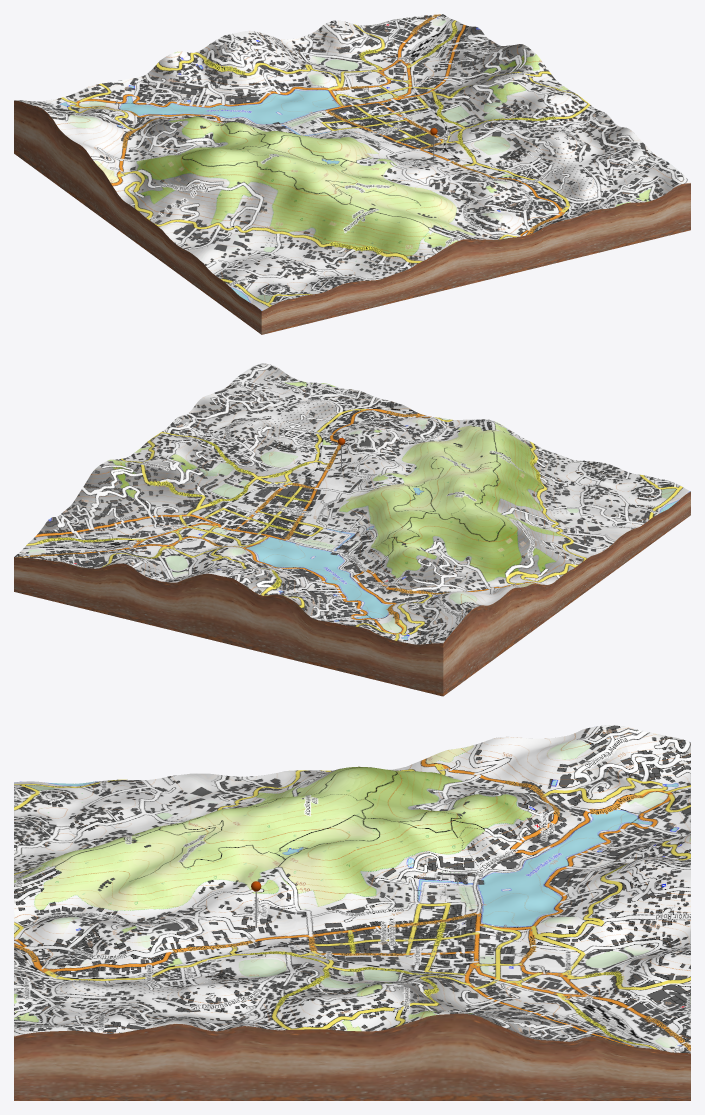
File: 3D-Map.glb
3 views of the same model, one above another, from view 1: azimuth 30°, elevation 25°; view 2: azimuth 150°, elevation 25°; view 3: azimuth 270°, elevation 25° (orthographic). The views are drawn at different scales.
Visible parts, largest first — view 1: mapSurface, mapEdges; view 2: mapSurface, mapEdges; view 3: mapSurface, mapEdges.
Boxes of the visible parts, x1,y1,x2,y2 form: mapSurface: (14,14,690,310); mapEdges: (14,100,690,334); mapSurface: (14,363,690,644); mapEdges: (14,491,690,696); mapSurface: (14,725,690,1053); mapEdges: (14,1013,690,1100).
Bounding box in the file's own units: 100 × 17.42 × 100.
Materials: 5 (2 with a texture image).
